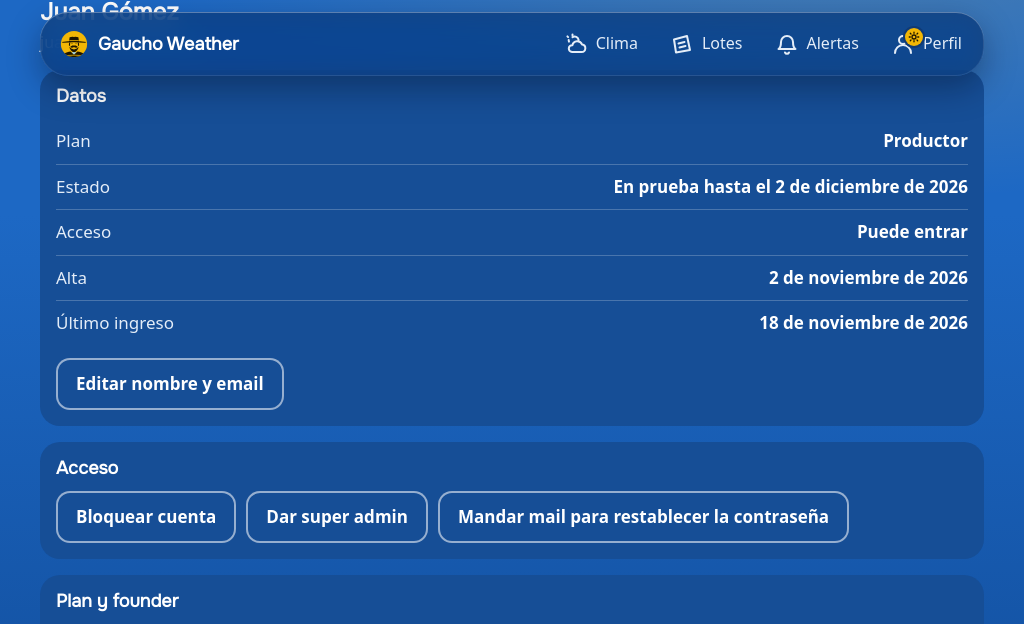
The account record (S1) › edits the name and the email
(page scrolled)
Click the button "Editar nombre y email".
click(170, 384)  # box [56, 358, 284, 410]
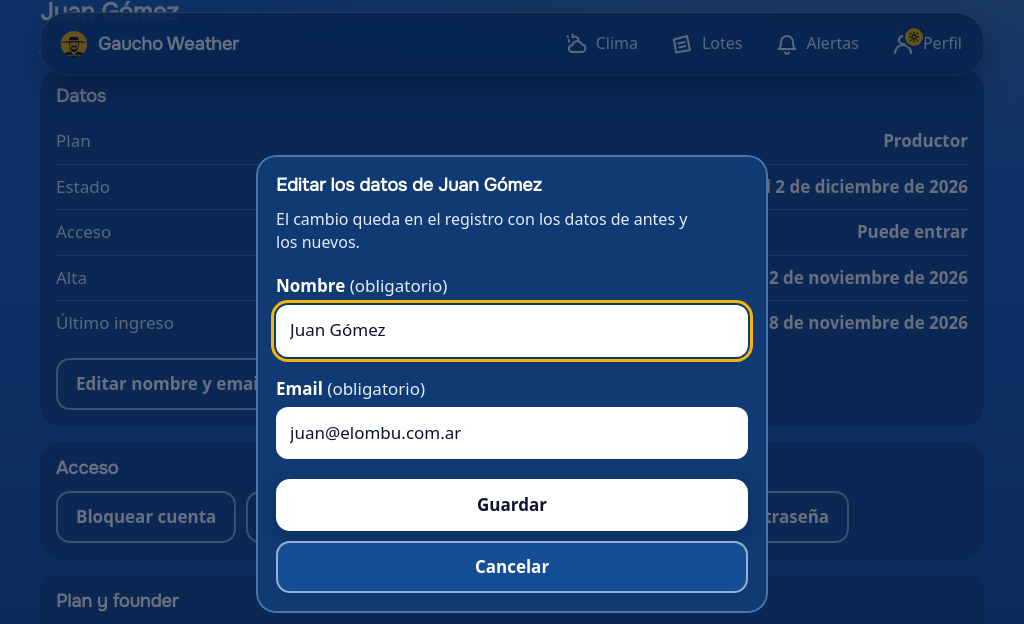
expect the field labelled "Nombre (obligatorio)" holds "Juan Gómez": met
Replace the text in the field labelled "Nombre (obligatorio)" with "Juan Pablo Gómez" at (512, 330), box [276, 304, 748, 356]
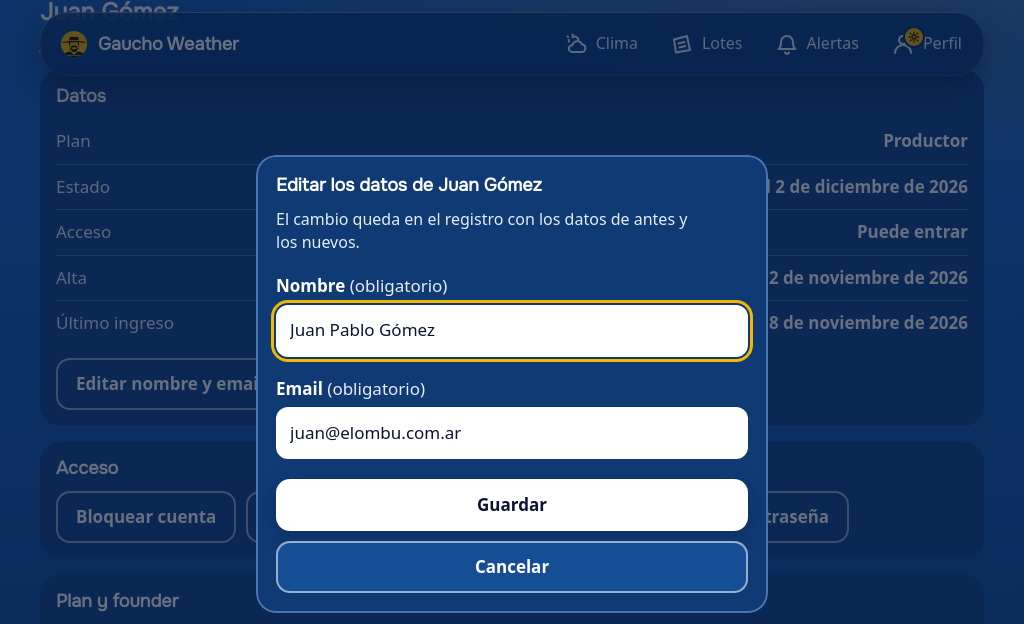
Replace the text in the field labelled "Email (obligatorio)" with "Juan@ElOmbu.com.ar" at (512, 433), box [276, 407, 748, 459]
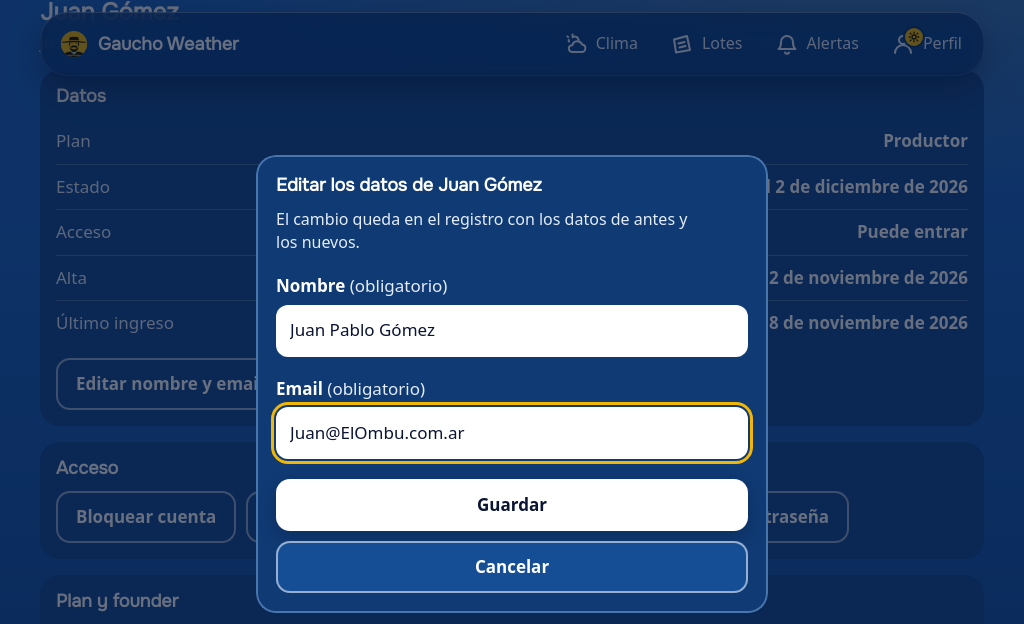
Click the button "Guardar".
click(512, 505)  # box [276, 479, 748, 531]
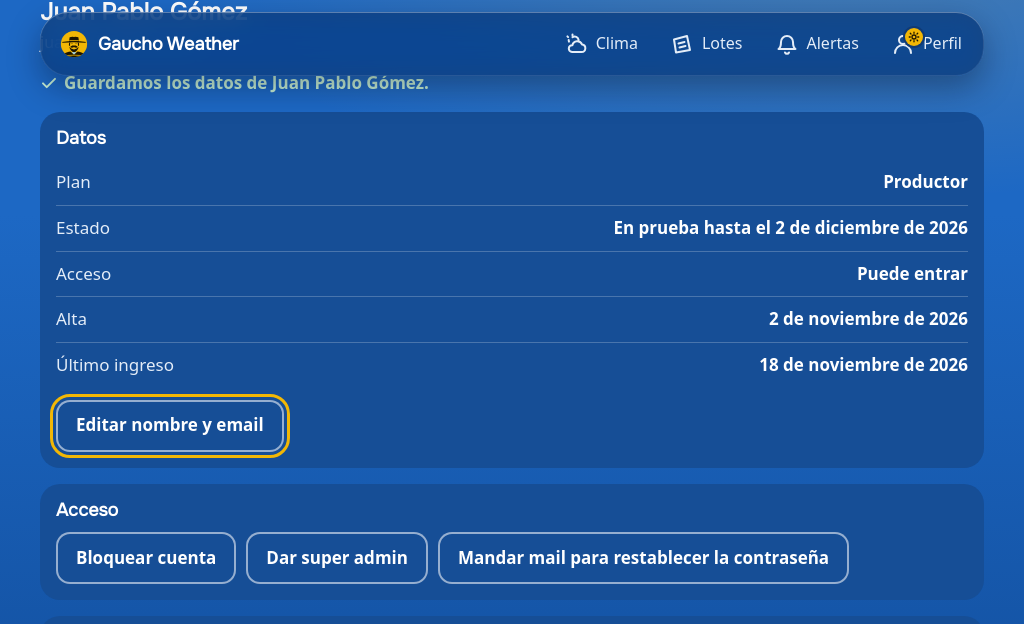
expect the text "juan@elombu.com.ar" is shown: met, box [40, 31, 201, 53]
expect the text "Guardamos los datos de Juan Pablo Gómez." is shown: met, box [40, 71, 429, 94]
